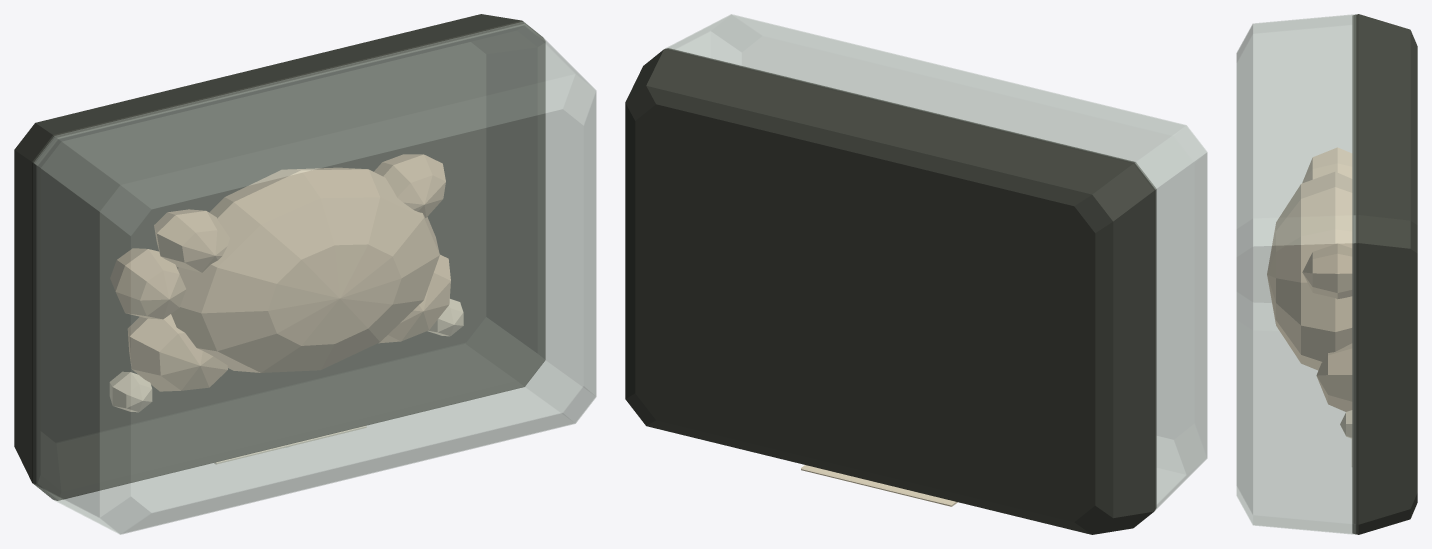
File: duck.glb
The picture shows the model from 3 angles, left to right: view 1: azimuth 30°, elevation 25°; view 2: azimuth 150°, elevation 25°; view 3: azimuth 270°, elevation 25°; orthographic projection. The views are drawn at different scales.
Visible parts, largest first — view 1: duck; view 2: duck; view 3: duck.
Part boxes in pixels (box(x1,y1,x2,y2)): duck: box(14, 14, 596, 534); duck: box(625, 14, 1207, 534); duck: box(1236, 14, 1417, 534).
Bounding box in the file's own units: 0.22 × 0.152 × 0.077.
